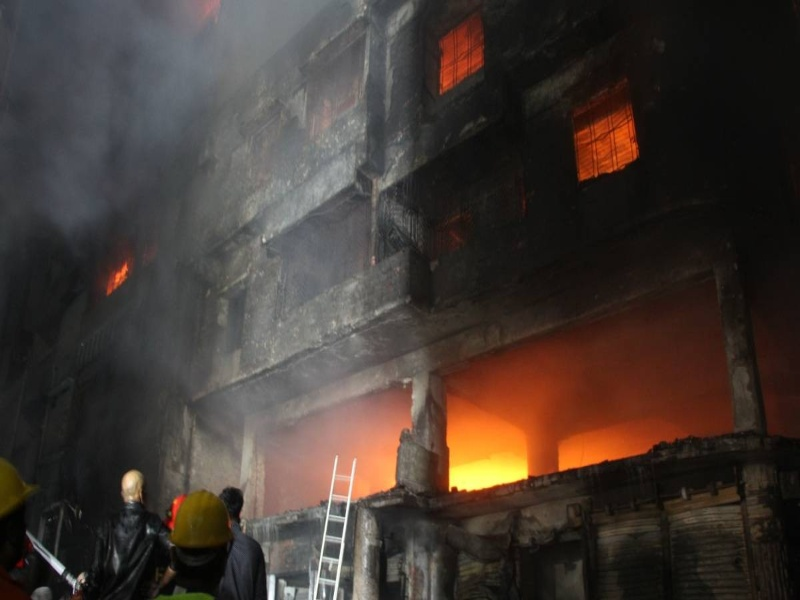smoke: (1, 1, 212, 355)
